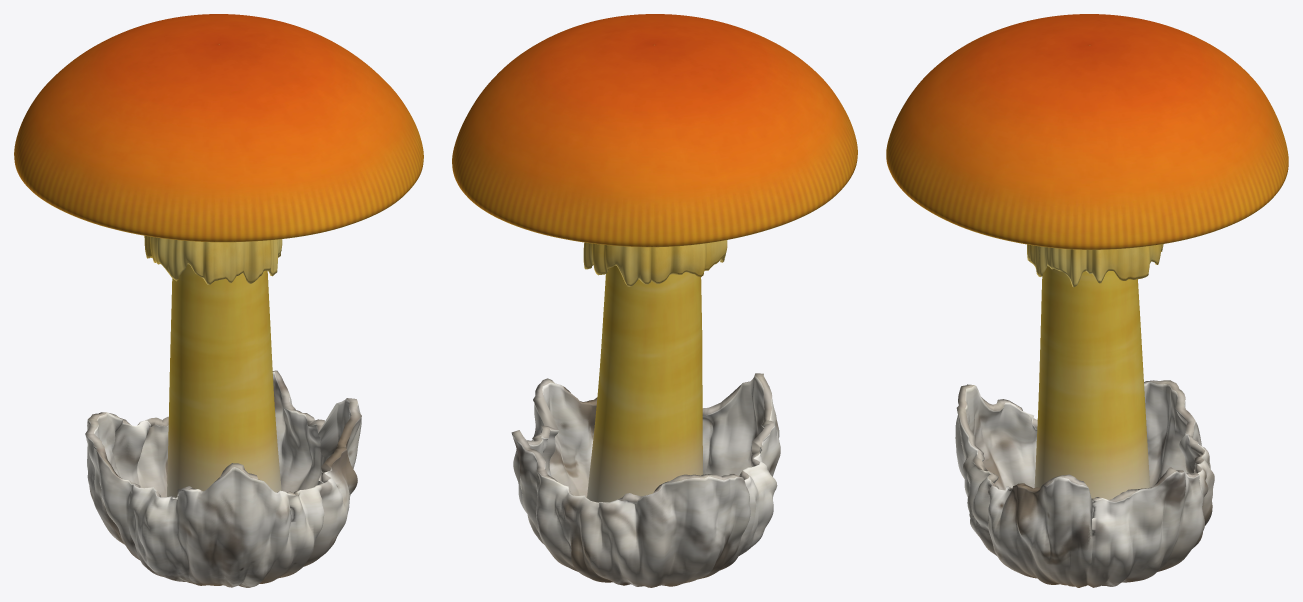
File: amanita-caesarea.glb
The picture shows the model from 3 angles, left to right: view 1: azimuth 30°, elevation 25°; view 2: azimuth 150°, elevation 25°; view 3: azimuth 270°, elevation 25°; orthographic projection.
Visible parts, largest first — view 1: cap, volva, stem, ring; view 2: cap, volva, stem, ring; view 3: cap, volva, stem, ring.
Part boxes in pixels (box(x1,y1,x2,y2)): cap: box(14, 14, 423, 242); volva: box(85, 370, 361, 587); stem: box(167, 264, 281, 496); ring: box(144, 235, 282, 284); cap: box(452, 14, 857, 247); volva: box(511, 373, 780, 587); stem: box(587, 265, 703, 502); ring: box(583, 240, 727, 286); cap: box(886, 14, 1288, 249); volva: box(955, 380, 1214, 587); stem: box(1034, 266, 1150, 499); ring: box(1027, 244, 1163, 287).
Size of the model in its own units: 0.1153 by 0.1621 by 0.1139.
Materials: 5 (5 with a texture image).
